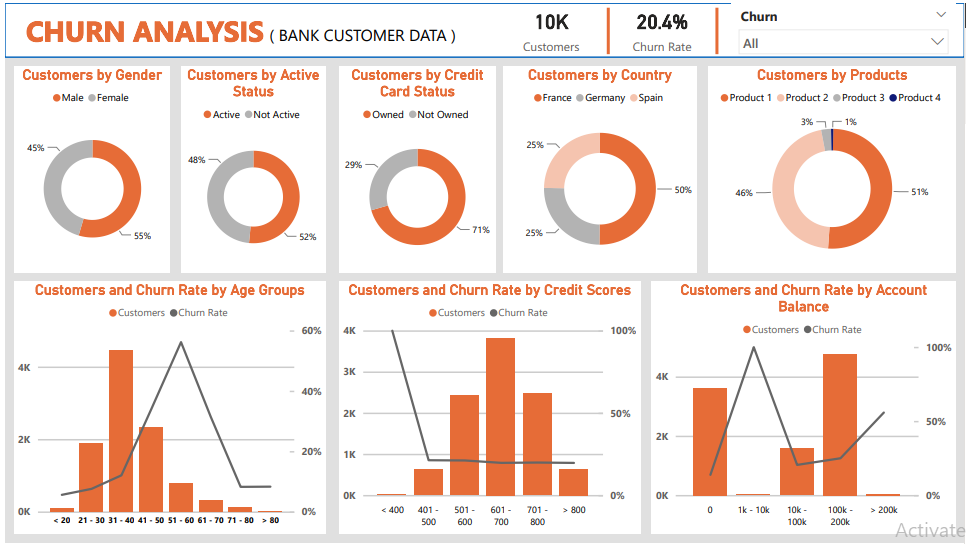

Layout of this report page (visuals, bound fields, positions):
{"tool":"powerbi","page":{"name":"Churn Analysis","canvas":[1280,720],"ordinal":0},"visuals":[{"type":"shape","box":[0,0,1280,72.3],"z":0},{"type":"donutChart","fields":{"Y":["Customer data.Customers"],"Category":["Customer data.gender"]},"box":[13,83.5,207.4,276.5],"z":1000},{"type":"donutChart","fields":{"Y":["Customer data.Customers"],"Category":["Customer data.Active Status"]},"box":[234.7,83.5,193,276.5],"z":2000},{"type":"donutChart","fields":{"Y":["Customer data.Customers"],"Category":["Customer data.Credit Card Status"]},"box":[446.4,83.5,208.8,276.5],"z":3000},{"type":"donutChart","fields":{"Y":["Customer data.Customers"],"Category":["Customer data.Products"]},"box":[938.9,83.5,329.8,276.5],"z":4000},{"type":"donutChart","fields":{"Y":["Customer data.Customers"],"Category":["Customer data.country"]},"box":[665.3,83.5,257.8,276.5],"z":5000},{"type":"lineClusteredColumnComboChart","fields":{"Category":["Age Groups.Age Groups"],"Y":["Customer data.Customers"],"Y2":["Customer data.Churn Rate"]},"box":[12.3,370.8,415.4,336.9],"z":6000},{"type":"lineClusteredColumnComboChart","fields":{"Y":["Customer data.Customers"],"Y2":["Customer data.Churn Rate"],"Category":["Credit Scores Groups.Credit Scores"]},"box":[446.2,370.8,401.5,336.9],"z":7000},{"type":"lineClusteredColumnComboChart","fields":{"Y":["Customer data.Customers"],"Y2":["Customer data.Churn Rate"],"Category":["Acc Balance Groups.Account Balance"]},"box":[863.1,370.8,406.2,336.9],"z":8000},{"type":"textbox","box":[23.1,6.2,423.1,61.5],"z":9000},{"type":"card","fields":{"Values":["Customer data.Customers"]},"box":[655.4,0,147.7,67.7],"z":10000},{"type":"slicer","fields":{"Values":["Customer data.churn"]},"box":[969.2,0,300,67.7],"z":11000},{"type":"card","fields":{"Values":["Customer data.Churn Rate"]},"box":[803.1,0,147.7,67.7],"z":12000},{"type":"textbox","box":[347.7,23.1,300,44.6],"z":13000},{"type":"shape","box":[655.4,6.2,300,61.5],"z":14000},{"type":"shape","box":[800,6.2,300,61.5],"z":15000}]}

Visuals, with their boxes in screenshot pixels (x1, y1, x2, y2), scaled from the page's 1280x720 canvas onto the 967x545 screenshot:
shape: (0, 0, 966, 55)
donutChart - Customer data.Customers x Customer data.gender: (10, 63, 167, 272)
donutChart - Customer data.Customers x Customer data.Active Status: (177, 63, 323, 272)
donutChart - Customer data.Customers x Customer data.Credit Card Status: (337, 63, 495, 272)
donutChart - Customer data.Customers x Customer data.Products: (709, 63, 958, 272)
donutChart - Customer data.Customers x Customer data.country: (503, 63, 697, 272)
lineClusteredColumnComboChart - Age Groups.Age Groups x Customer data.Customers: (9, 281, 323, 536)
lineClusteredColumnComboChart - Customer data.Customers x Customer data.Churn Rate: (337, 281, 640, 536)
lineClusteredColumnComboChart - Customer data.Customers x Customer data.Churn Rate: (652, 281, 959, 536)
textbox: (17, 5, 337, 51)
card - Customer data.Customers: (495, 0, 607, 51)
slicer - Customer data.churn: (732, 0, 959, 51)
card - Customer data.Churn Rate: (607, 0, 718, 51)
textbox: (263, 17, 489, 51)
shape: (495, 5, 722, 51)
shape: (604, 5, 831, 51)
